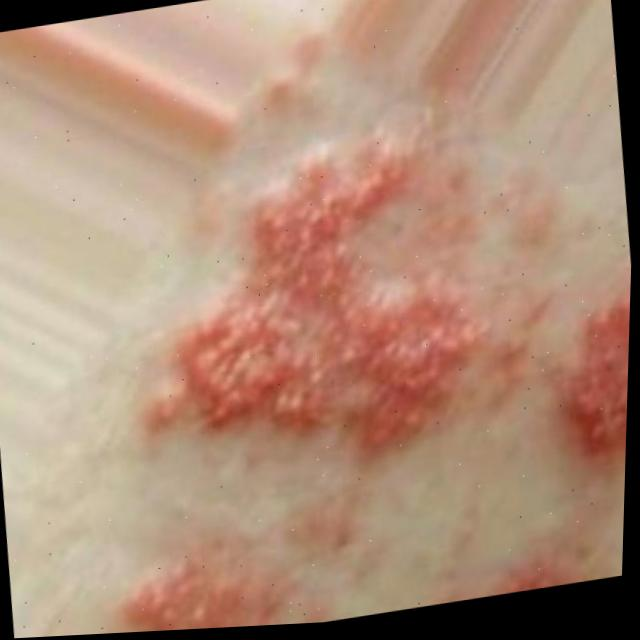Shingles: (118, 127, 499, 485), (552, 291, 630, 464), (117, 551, 209, 629)
